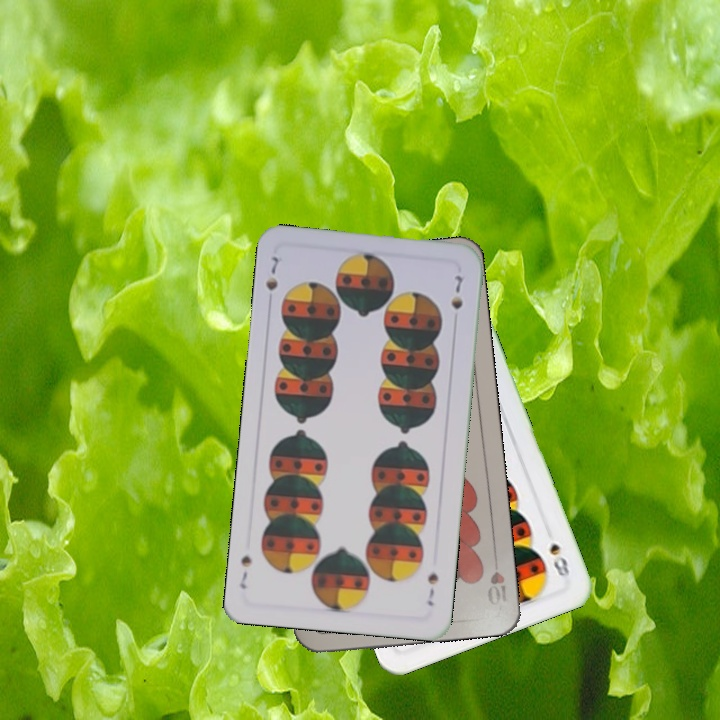H10: (483, 550, 511, 609)
S7: (261, 251, 285, 293), (423, 568, 441, 608)
S8: (545, 539, 572, 579)
